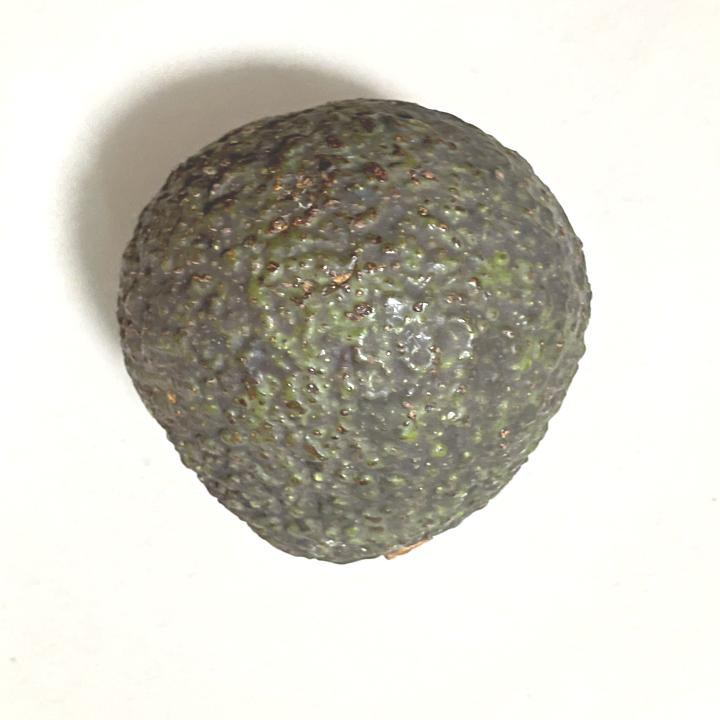Level1: (100, 76, 614, 588)
